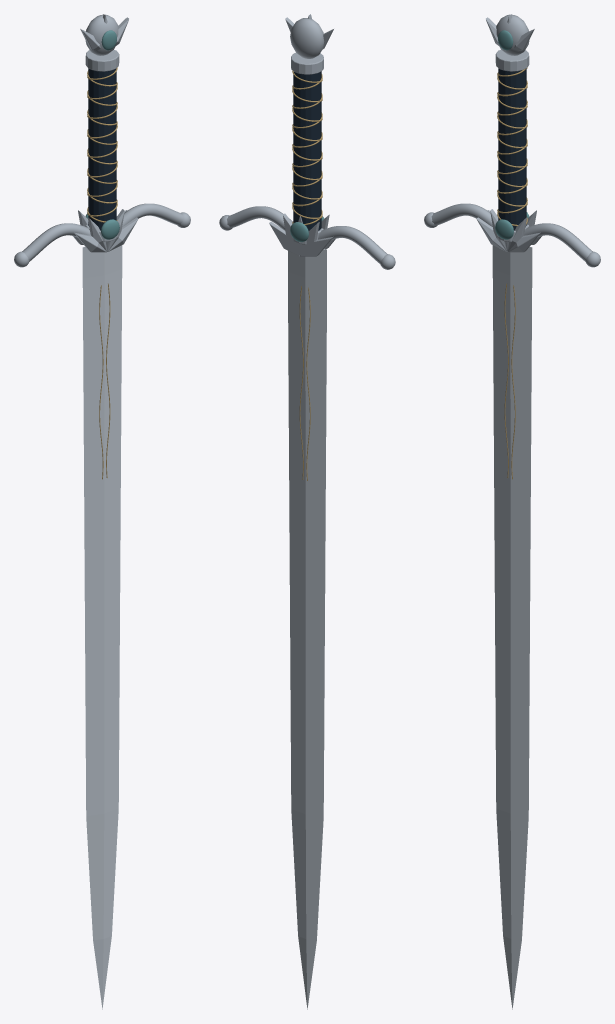
Rendered from moon-warden-lotus-sword-v1.glb.
3 views of the same model, side by side, from view 1: azimuth 30°, elevation 25°; view 2: azimuth 150°, elevation 25°; view 3: azimuth 330°, elevation 25° (orthographic).
Visible parts, largest first — view 1: Double edged tapered diamond blade, Navy leather grip, Upturned lotus guard branch, Upturned lotus guard branch.001, Lotus pommel core, Silver grip collar.001, Crossed silver grip bindings, Crossed silver grip bindings.001; view 2: Double edged tapered diamond blade, Navy leather grip, Lotus pommel core, Upturned lotus guard branch, Upturned lotus guard branch.001, Crossed silver grip bindings.001, Crossed silver grip bindings, Silver grip collar.001; view 3: Double edged tapered diamond blade, Navy leather grip, Upturned lotus guard branch.001, Upturned lotus guard branch, Lotus pommel core, Crossed silver grip bindings.001, Silver grip collar.001, Crossed silver grip bindings.
Part boxes in pixels (<box>): Double edged tapered diamond blade: <box>82,245,122,1009</box>; Navy leather grip: <box>88,68,116,230</box>; Upturned lotus guard branch: <box>22,223,90,261</box>; Upturned lotus guard branch.001: <box>122,203,183,226</box>; Lotus pommel core: <box>85,14,118,55</box>; Silver grip collar.001: <box>85,49,119,71</box>; Crossed silver grip bindings: <box>87,70,117,222</box>; Crossed silver grip bindings.001: <box>87,67,117,216</box>; Double edged tapered diamond blade: <box>288,249,326,1009</box>; Navy leather grip: <box>293,71,321,230</box>; Lotus pommel core: <box>290,18,324,58</box>; Upturned lotus guard branch: <box>318,226,387,264</box>; Upturned lotus guard branch.001: <box>227,206,292,230</box>; Crossed silver grip bindings.001: <box>292,74,322,225</box>; Crossed silver grip bindings: <box>292,70,322,219</box>; Silver grip collar.001: <box>291,53,323,74</box>; Double edged tapered diamond blade: <box>492,245,532,1009</box>; Navy leather grip: <box>498,68,526,230</box>; Upturned lotus guard branch.001: <box>524,223,592,261</box>; Upturned lotus guard branch: <box>431,203,492,226</box>; Lotus pommel core: <box>496,14,529,55</box>; Crossed silver grip bindings.001: <box>497,69,527,224</box>; Silver grip collar.001: <box>495,49,529,71</box>; Crossed silver grip bindings: <box>497,67,527,226</box>.
Bounding box in the file's own units: 0.204 × 1.11 × 0.04.
